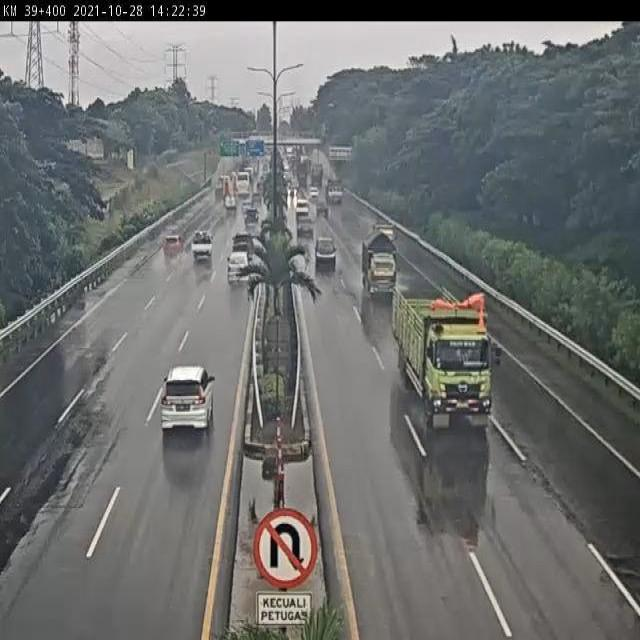truck-l-: (391, 286, 492, 434)
truck-s-: (362, 228, 401, 299)
